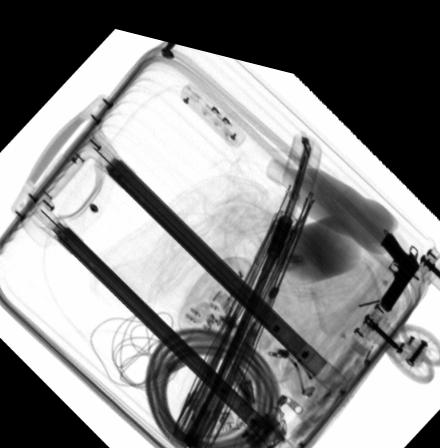Gun: (377, 211, 419, 291)
